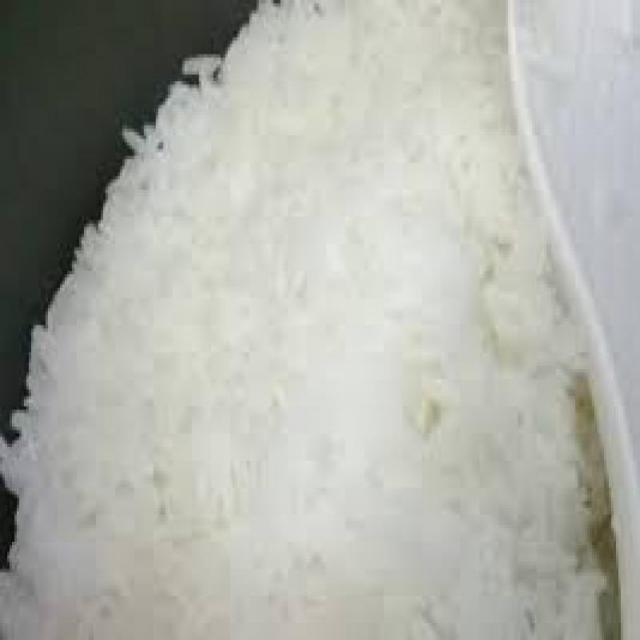Rice: (14, 9, 614, 636)
